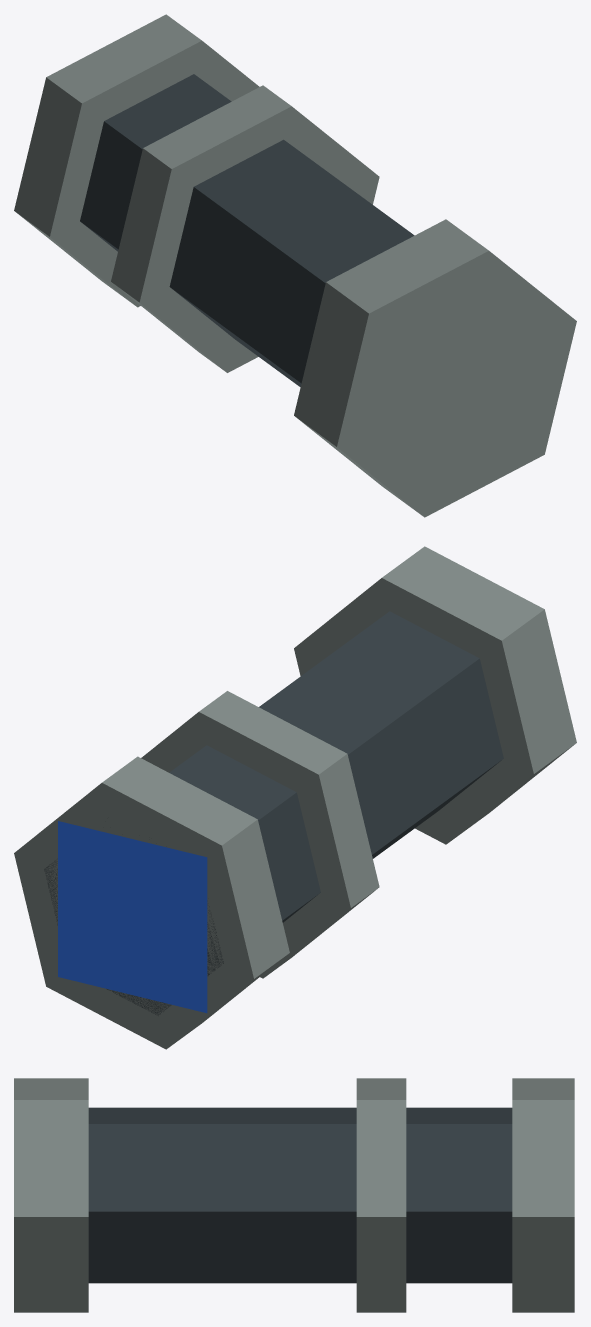
3 renders of one model, top to bottom at view 1: azimuth 30°, elevation 25°; view 2: azimuth 150°, elevation 25°; view 3: azimuth 270°, elevation 25°, orthographic. The views are drawn at different scales.
Visible parts, largest first — view 1: mount; view 2: mount; view 3: mount.
Part boxes in pixels (x1,y1,x2,y2): mount: (14, 14, 576, 517); mount: (14, 546, 576, 1049); mount: (14, 1078, 574, 1312).
Size of the model in its own units: 3.09 by 3.09 by 7.23.
